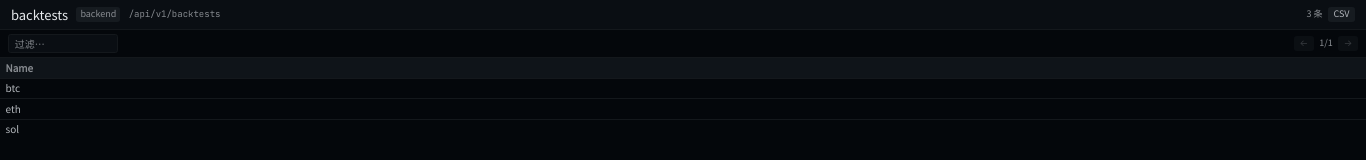
Scenario: DataTablePage(列表页) › 文本过滤:按行任意字段值过滤
Type "eth" into the field with placeholder "过滤…".
click(63, 44); type("eth")  # box [8,34,118,53]
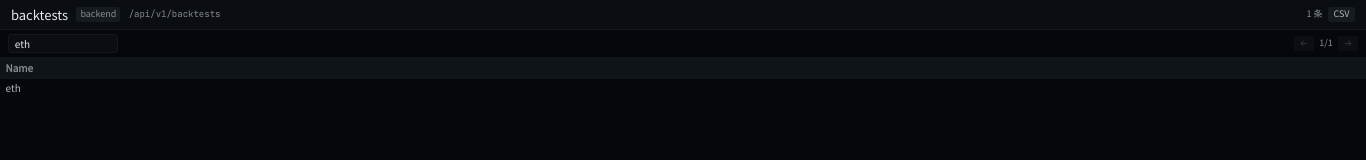
Result: the text "eth" is shown at [0,78,1365,98]
Result: the text "btc" is gone
Result: the text "sol" is gone
